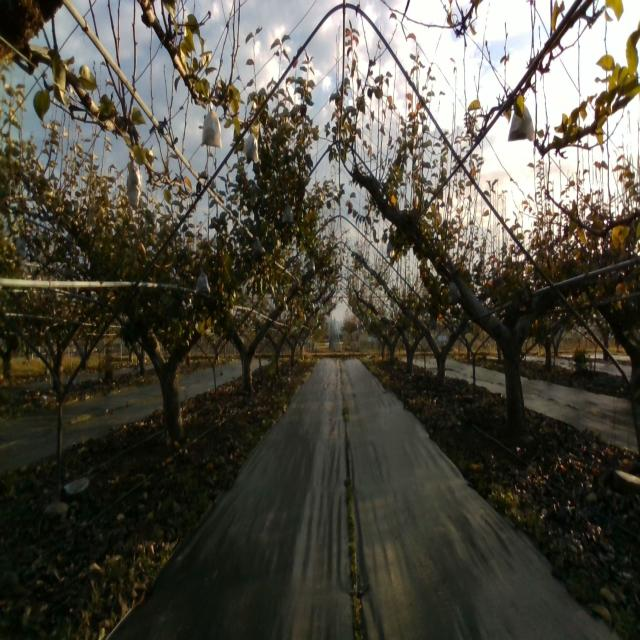pearbags: (200, 102, 222, 150), (126, 151, 143, 211), (508, 102, 534, 141), (243, 128, 260, 164), (195, 266, 211, 296), (251, 235, 266, 263), (447, 280, 461, 304), (281, 198, 294, 222)
